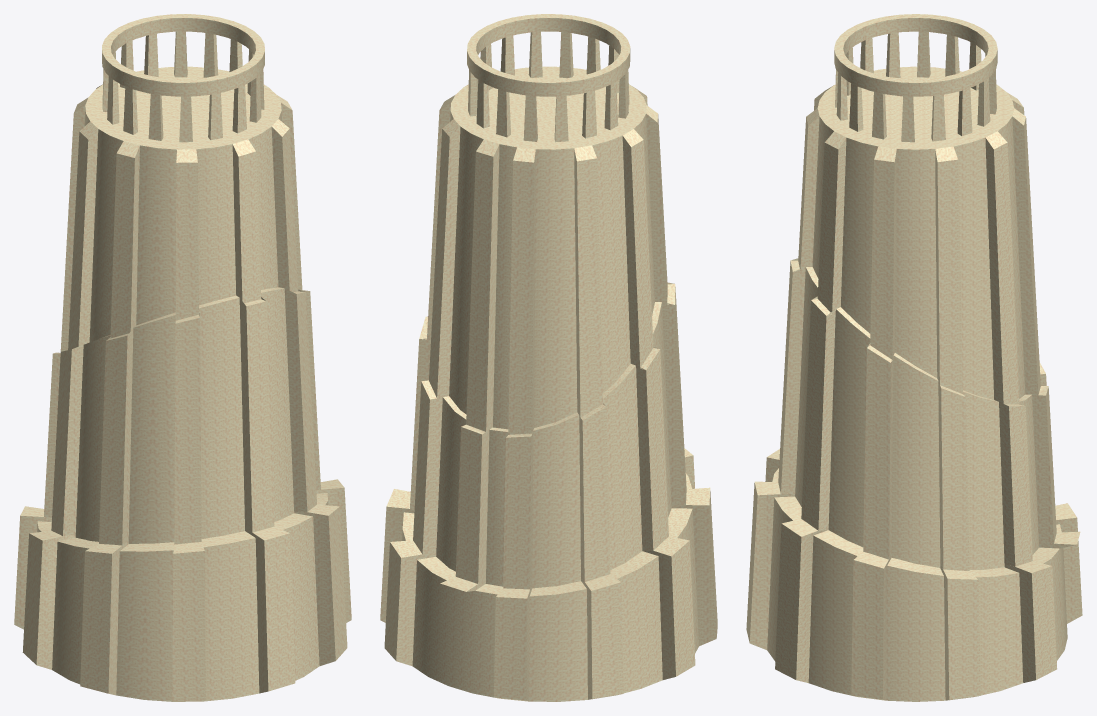
File: SM_fire_tower_02.glb
3 views of the same model, side by side, from view 1: azimuth 30°, elevation 25°; view 2: azimuth 150°, elevation 25°; view 3: azimuth 270°, elevation 25° (orthographic).
Visible parts, largest first — view 1: SM_fire_tower_02; view 2: SM_fire_tower_02; view 3: SM_fire_tower_02.
Boxes of the visible parts, <box> form: SM_fire_tower_02: <box>14,14,351,701</box>; SM_fire_tower_02: <box>380,14,717,701</box>; SM_fire_tower_02: <box>746,14,1082,701</box>.
Size of the model in its own units: 118 by 229 by 118.
Materials: 1 (1 with a texture image).
